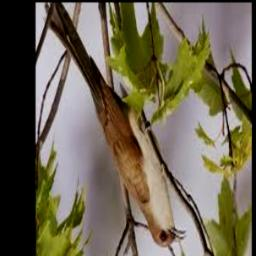Cuckoo: (43, 2, 187, 248)
